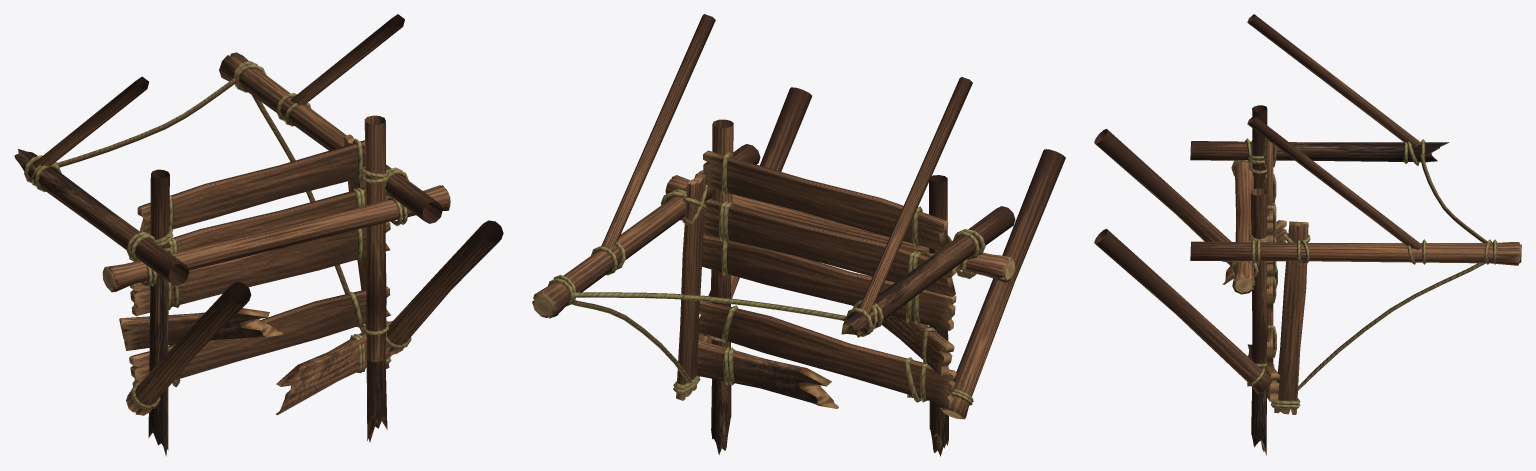
File: broken_Bridge.FBX
The picture shows the model from 3 angles, left to right: view 1: azimuth 30°, elevation 25°; view 2: azimuth 150°, elevation 25°; view 3: azimuth 270°, elevation 25°; orthographic projection. The views are drawn at different scales.
Visible parts, largest first — view 1: BrokenBridge006, BrokenBridge004, BrokenBridge005, BrokenBridge_Rope; view 2: BrokenBridge006, BrokenBridge004, BrokenBridge005, BrokenBridge_Rope; view 3: BrokenBridge004, BrokenBridge005, BrokenBridge006, BrokenBridge_Rope.
Part boxes in pixels (x1,y1,x2,y2): BrokenBridge006: (102,115,450,456); BrokenBridge004: (219,14,503,368); BrokenBridge005: (14,76,251,415); BrokenBridge_Rope: (24,61,411,410); BrokenBridge006: (665,119,1015,456); BrokenBridge004: (532,14,812,400); BrokenBridge005: (841,77,1065,419); BrokenBridge_Rope: (548,152,985,405); BrokenBridge004: (1094,115,1521,414); BrokenBridge005: (1094,14,1449,265); BrokenBridge006: (1222,105,1286,455); BrokenBridge_Rope: (1231,138,1496,408).
Size of the model in its own units: 6.38 by 7.74 by 8.61.
